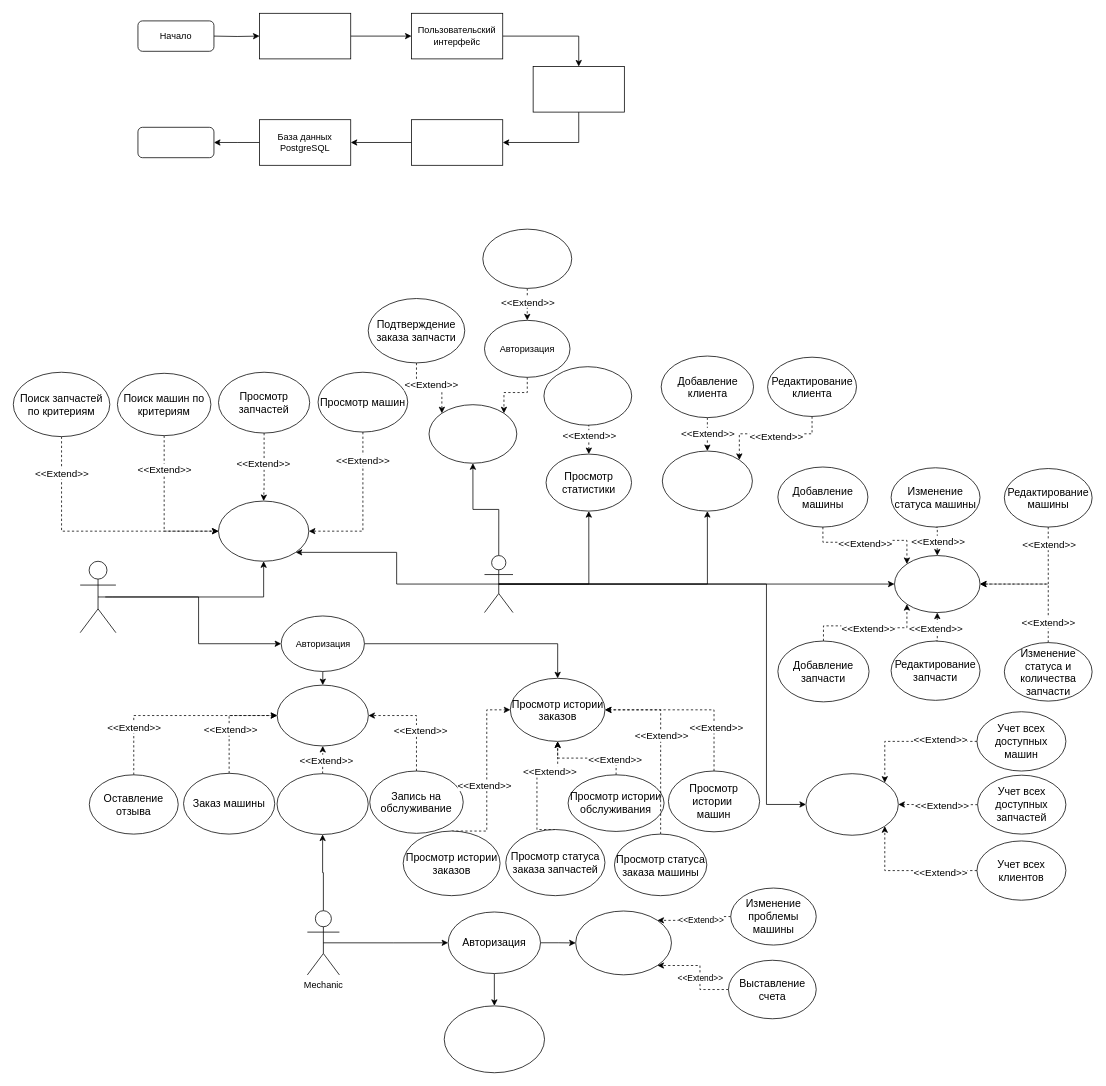
Some shapes in this 1106 by 1086 pixel diagram are drawn without their labels. The centre of each missing label's shape, as x and y in pixels:
"Manager" belongs at point (498, 584).
"User" belongs at point (97, 596).
"Бизнес логика" belongs at point (578, 89).
"Доступ к данным" belongs at point (457, 142).
"Заказ запчасти" belongs at point (322, 803).
"Запуск приложения" belongs at point (305, 36).
"Конец" belongs at point (175, 142).
"Оформление заказов/отзывов" belongs at point (322, 715).
"Подтверждение заказа машины" belongs at point (527, 258).
"Подтверждение заказов" belongs at point (472, 433).
"Просмотр информации" belongs at point (263, 530).
"Просмотр обслуженных машин" belongs at point (494, 1039).
"Работа с заявками на обслуживание" belongs at point (623, 942).
"Работа с клиентами" belongs at point (707, 480).
"Работа с продуктом" belongs at point (937, 584).
"Сумма продаж машин за период" belongs at point (587, 395).
"Учет всех аспектов" belongs at point (851, 804).
